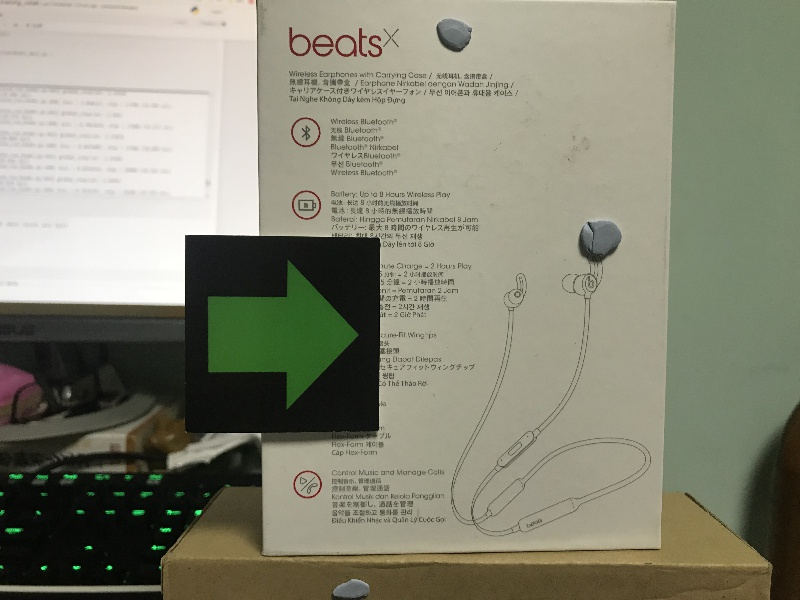RA-3: (188, 237, 379, 429)
